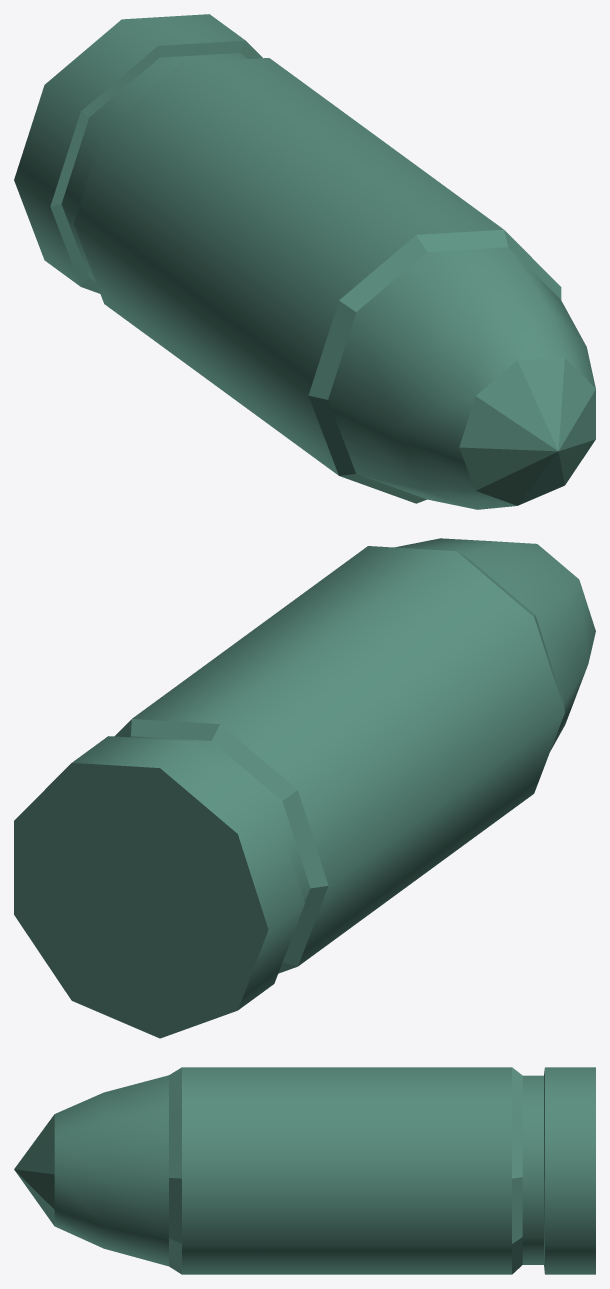
The model's file is bullet.fbx.
3 views of the same model, one above another, from view 1: azimuth 30°, elevation 25°; view 2: azimuth 150°, elevation 25°; view 3: azimuth 270°, elevation 25° (orthographic). The views are drawn at different scales.
Visible parts, largest first — view 1: Object029; view 2: Object029; view 3: Object029.
Part boxes in pixels (x1,y1,x2,y2): Object029: (14, 14, 595, 509); Object029: (14, 538, 595, 1038); Object029: (14, 1067, 595, 1274).
Bounding box in the file's own units: 56.51 × 57.38 × 160.
